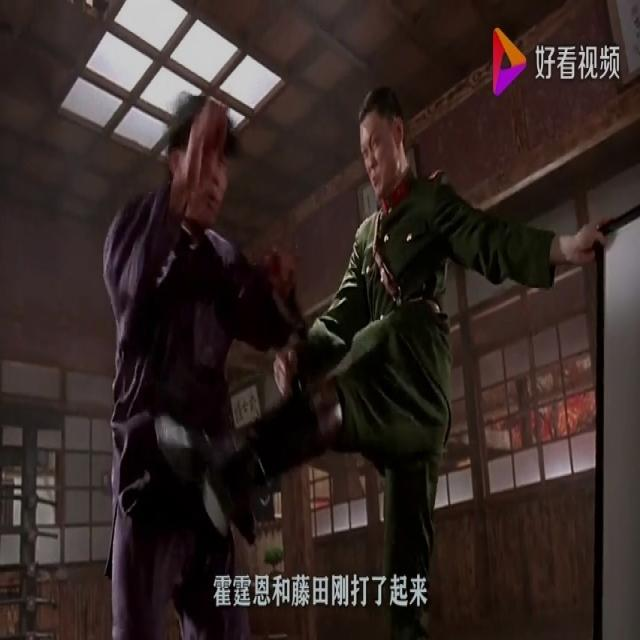fight: (51, 67, 609, 637)
